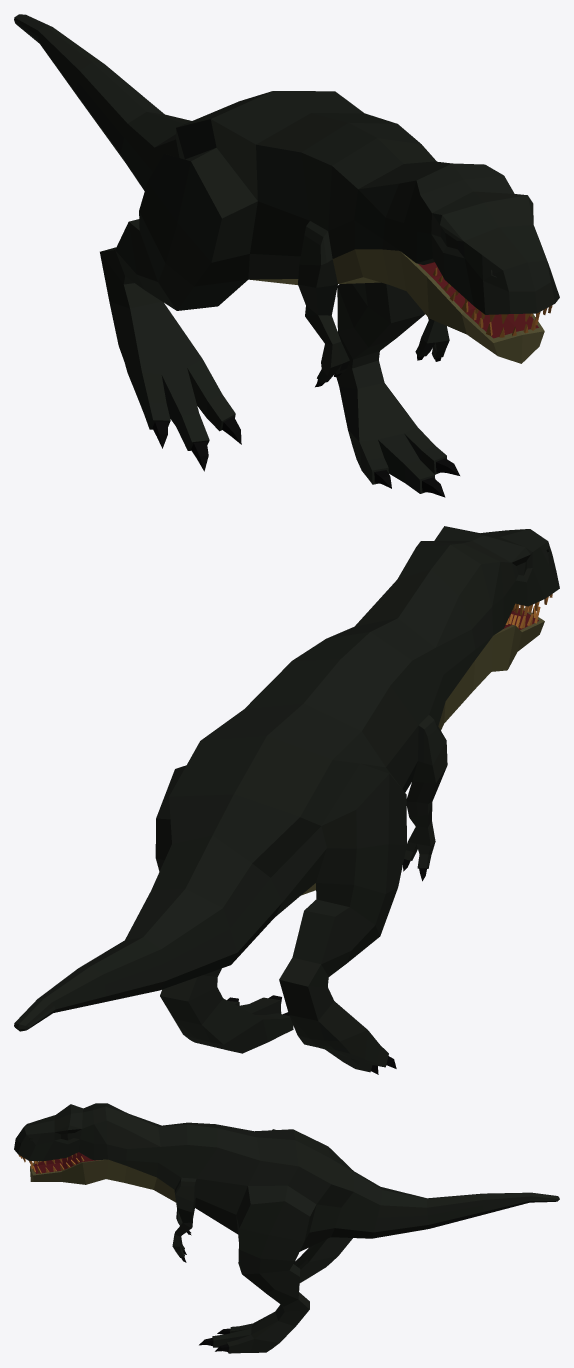
Rendered from Trex_000006.obj.
3 renders of one model, top to bottom at view 1: azimuth 30°, elevation 25°; view 2: azimuth 150°, elevation 25°; view 3: azimuth 270°, elevation 25°, orthographic. The views are drawn at different scales.
Visible parts, largest first — view 1: Trex_Cylinder; view 2: Trex_Cylinder; view 3: Trex_Cylinder.
Boxes of the visible parts, x1,y1,x2,y2 form: Trex_Cylinder: (14,14,559,497); Trex_Cylinder: (14,526,559,1074); Trex_Cylinder: (14,1103,559,1353).
Bounding box in the file's own units: 7.97 × 13.83 × 31.19.
